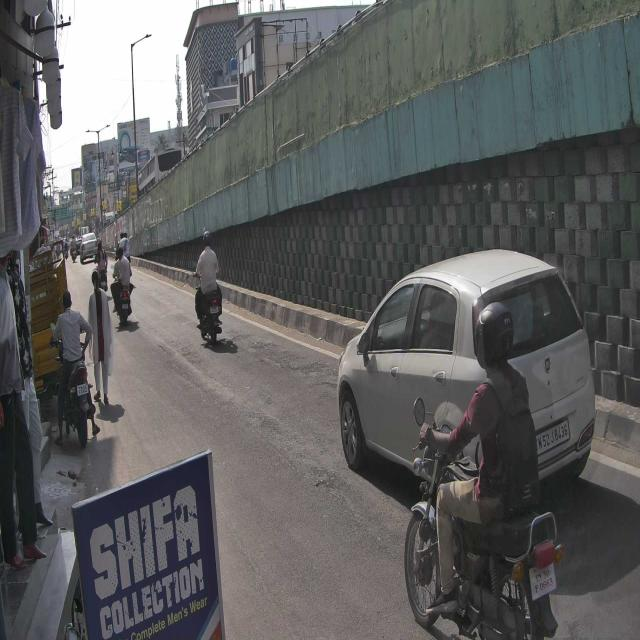single_rider: (403, 299, 569, 640)
